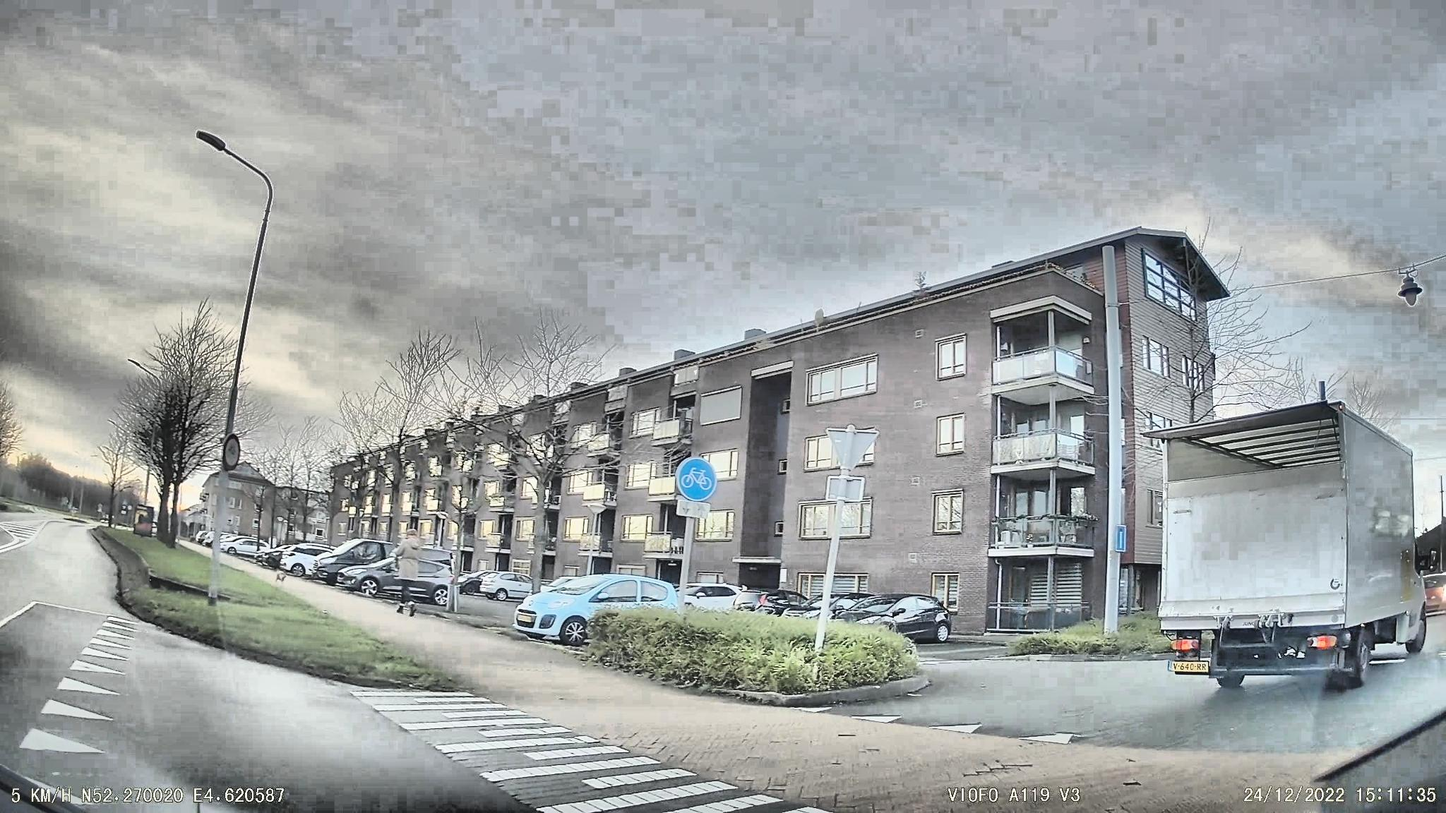Roads: (372, 610, 1446, 813)
